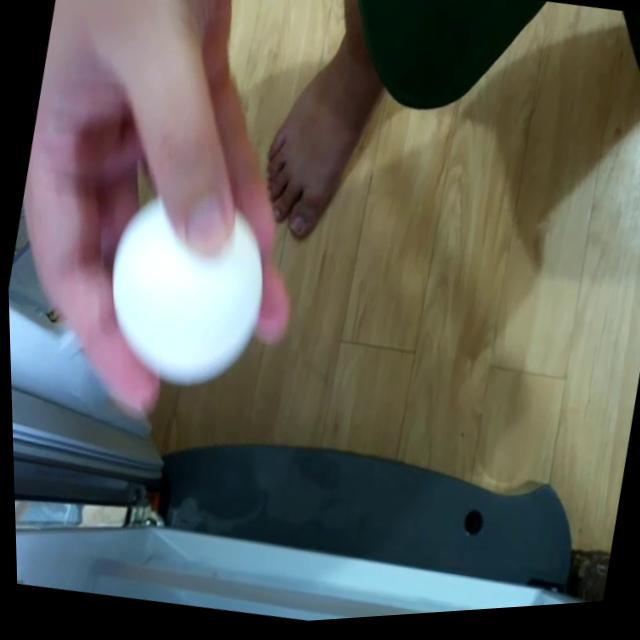egg: (81, 178, 283, 413)
